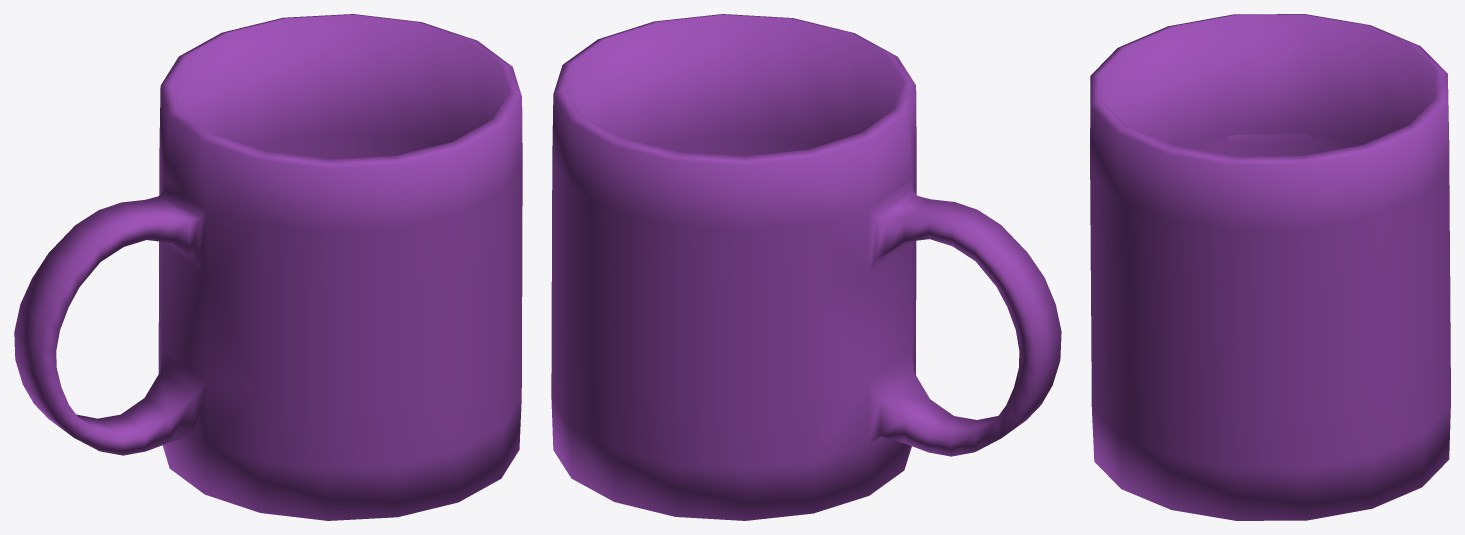
The model's file is Tasse.FBX.
3 renders of one model, left to right at view 1: azimuth 30°, elevation 25°; view 2: azimuth 150°, elevation 25°; view 3: azimuth 270°, elevation 25°, orthographic.
Visible parts, largest first — view 1: Tasse; view 2: Tasse; view 3: Tasse.
Part boxes in pixels (<box>): Tasse: <box>14,14,522,520</box>; Tasse: <box>551,14,1061,520</box>; Tasse: <box>1090,14,1450,520</box>.
Bounding box in the file's own units: 15.23 × 11.28 × 10.1.
